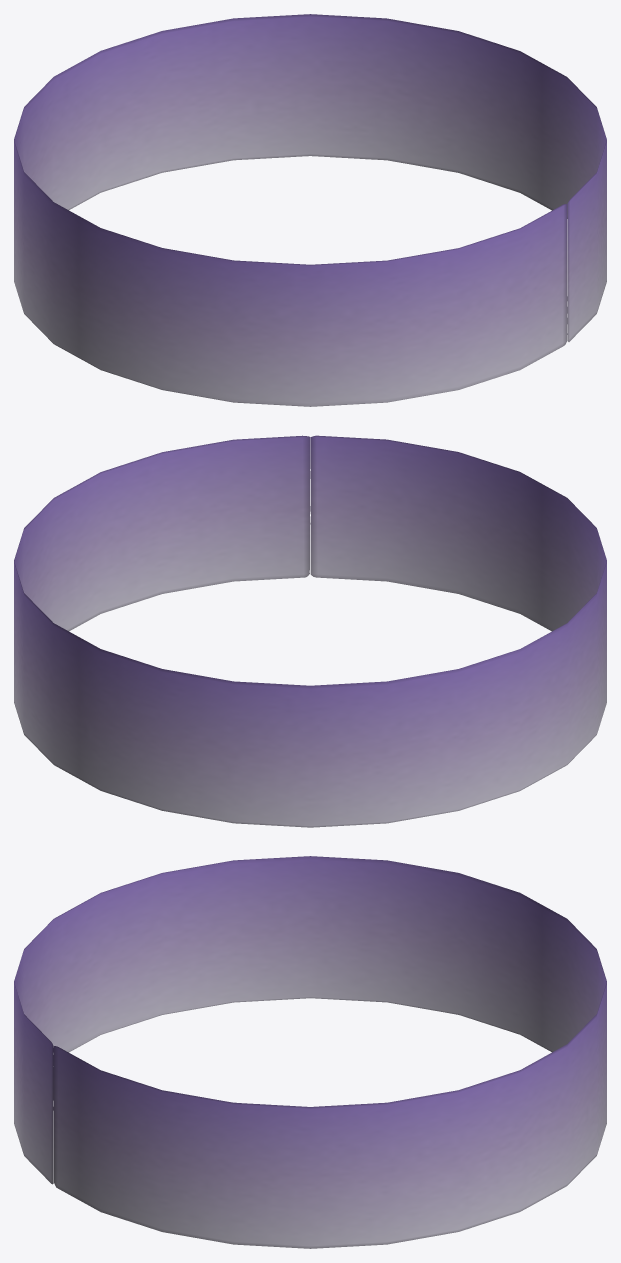
Rendered from gg_SkyCylinder.FBX.
3 renders of one model, top to bottom at view 1: azimuth 30°, elevation 25°; view 2: azimuth 150°, elevation 25°; view 3: azimuth 270°, elevation 25°, orthographic.
Parts seen in each view (by area): view 1: gg_SkyCylinder; view 2: gg_SkyCylinder; view 3: gg_SkyCylinder.
Boxes of the visible parts, x1,y1,x2,y2 form: gg_SkyCylinder: [14, 14, 606, 406]; gg_SkyCylinder: [14, 435, 606, 827]; gg_SkyCylinder: [14, 856, 606, 1248].
Bounding box in the file's own units: 10704 × 2831 × 10704.
Materials: 1 (1 with a texture image).
